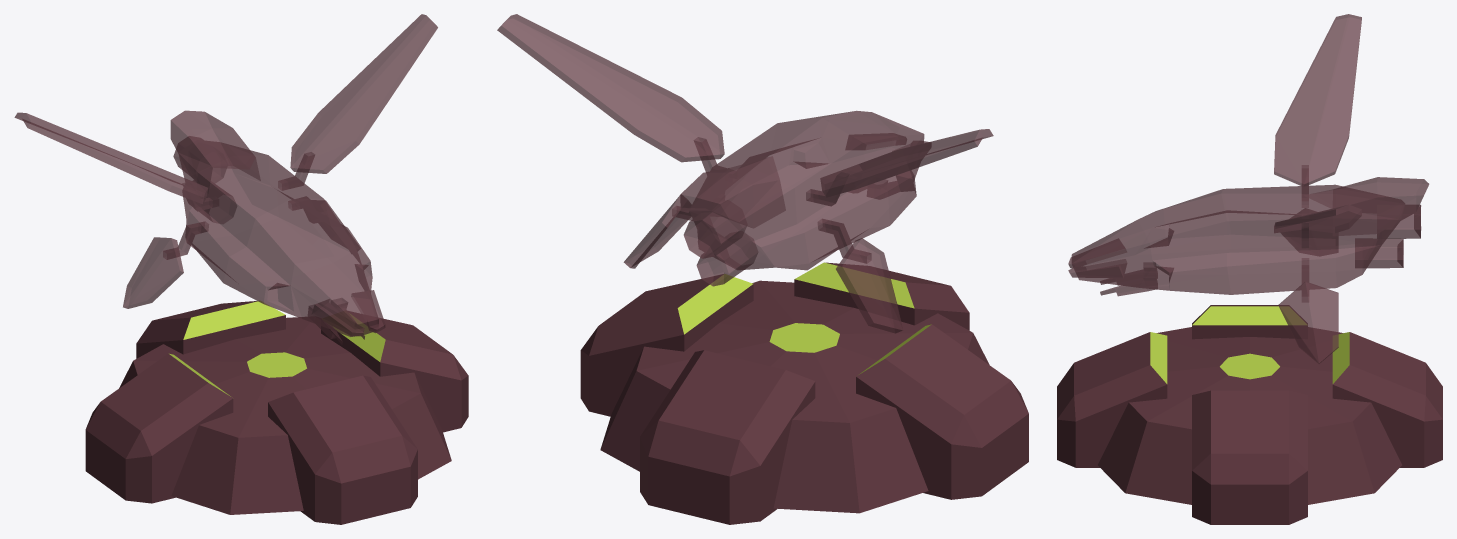
Rendered from scifi-hologram-ship.fbx.
3 views of the same model, side by side, from view 1: azimuth 30°, elevation 25°; view 2: azimuth 150°, elevation 25°; view 3: azimuth 270°, elevation 25° (orthographic). The views are drawn at different scales.
Parts seen in each view (by area): view 1: scifi-hologram-ship; view 2: scifi-hologram-ship; view 3: scifi-hologram-ship.
Boxes of the visible parts, x1=… form: scifi-hologram-ship: x1=14, y1=14, x2=468, y2=524; scifi-hologram-ship: x1=497, y1=14, x2=1028, y2=524; scifi-hologram-ship: x1=1057, y1=14, x2=1442, y2=524.
Size of the model in its own units: 1.68 by 1.34 by 1.4.
